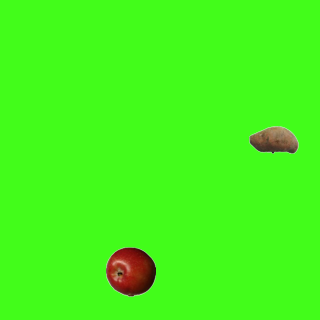Apple Braeburn: (105, 246, 155, 296)
Potato Sweet: (248, 114, 298, 164)
